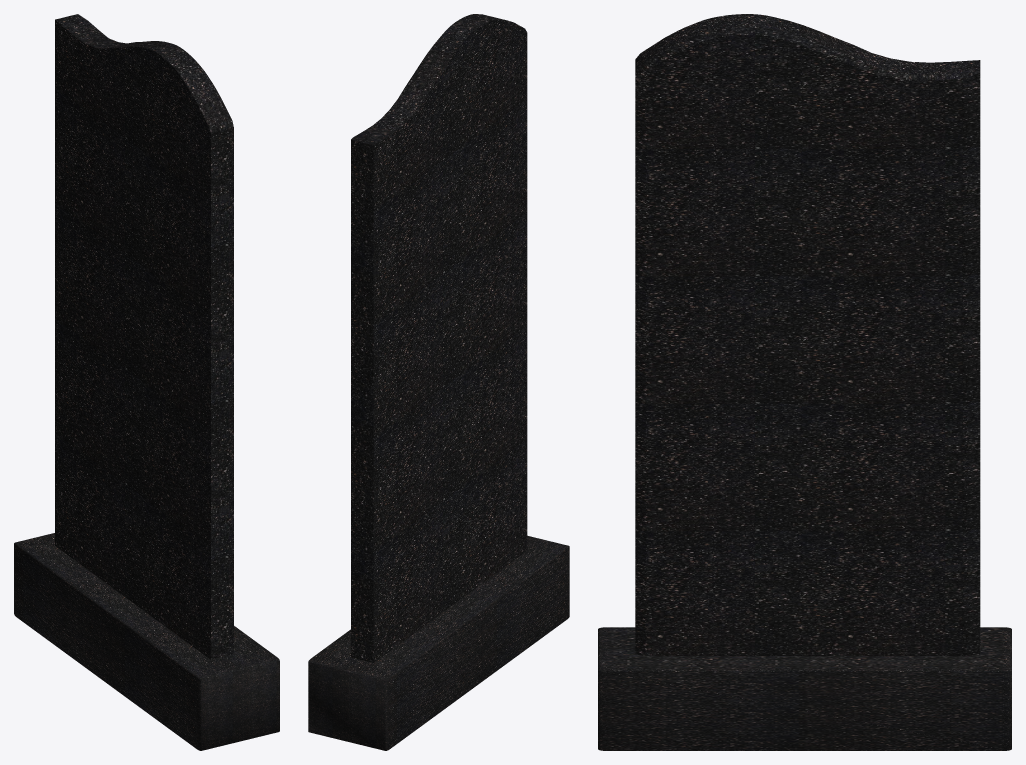
File: Памятник вола Габро [granite_100_u].glb
3 views of the same model, side by side, from view 1: azimuth 30°, elevation 25°; view 2: azimuth 150°, elevation 25°; view 3: azimuth 270°, elevation 25° (orthographic). The views are drawn at different scales.
Parts seen in each view (by area): view 1: Куб.002; view 2: Куб.002; view 3: Куб.002.
Part boxes in pixels (<box>): Куб.002: <box>14,14,279,750</box>; Куб.002: <box>308,14,569,750</box>; Куб.002: <box>598,14,1011,750</box>.
Size of the model in its own units: 0.15 by 1.13 by 0.6.
1 material, 1 textured.
